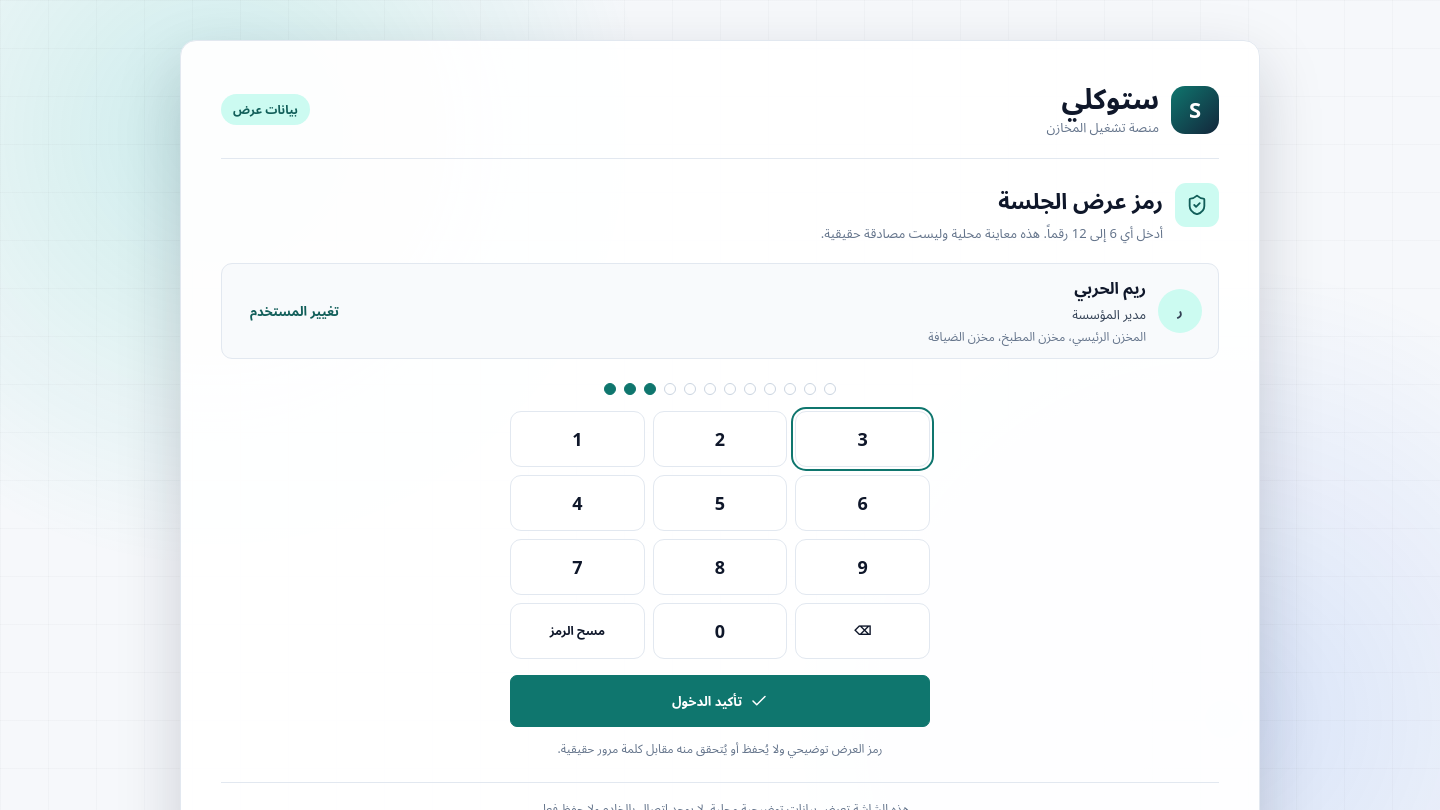
Test: Stockly frontend shell › opens the command palette and navigates locally
This screenshot has width=1440, height=810.
Earlier steps of the test are not shown.
Click the button "4" at coordinates (577, 503), box [510, 475, 645, 531]
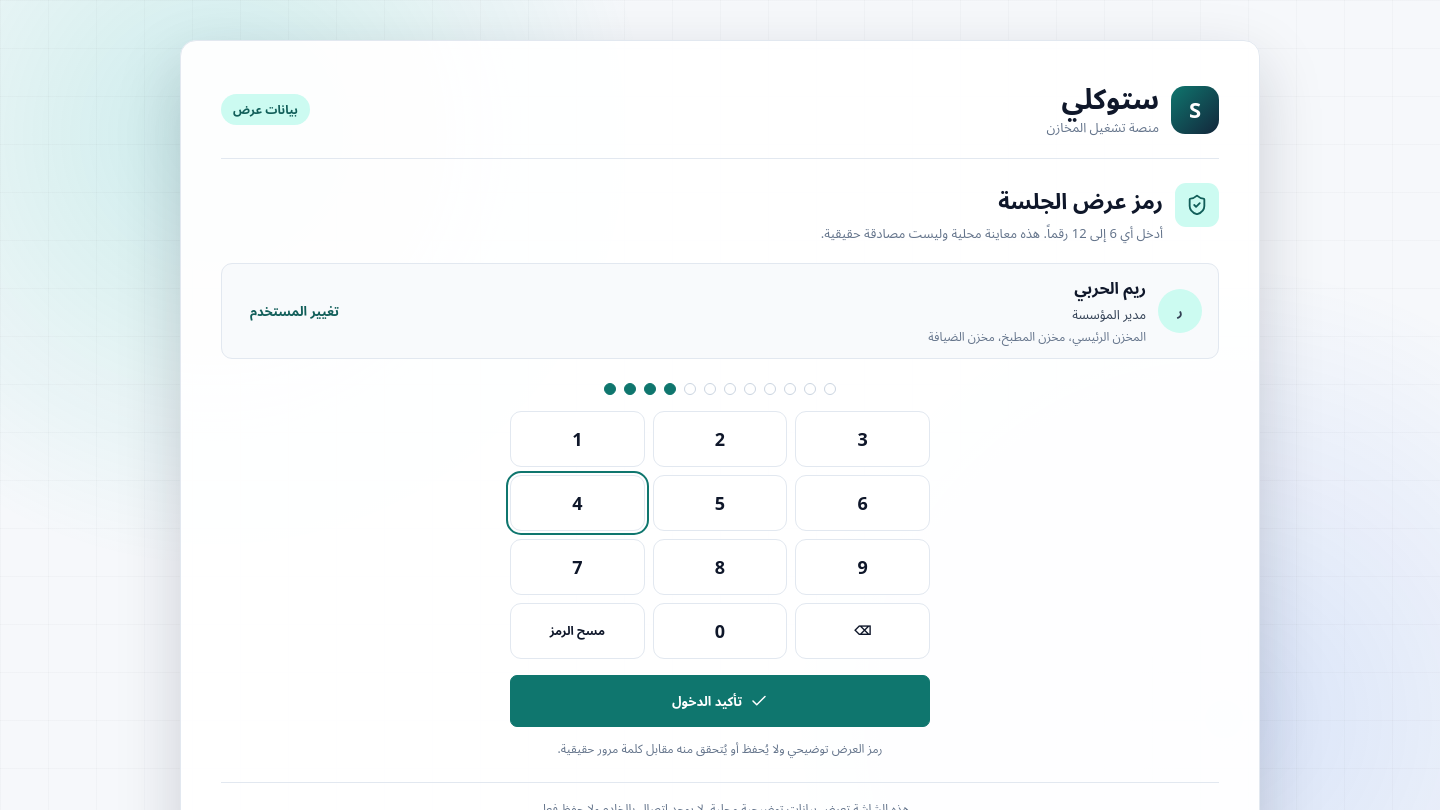
Click the button "5" at coordinates (720, 503), box [653, 475, 787, 531]
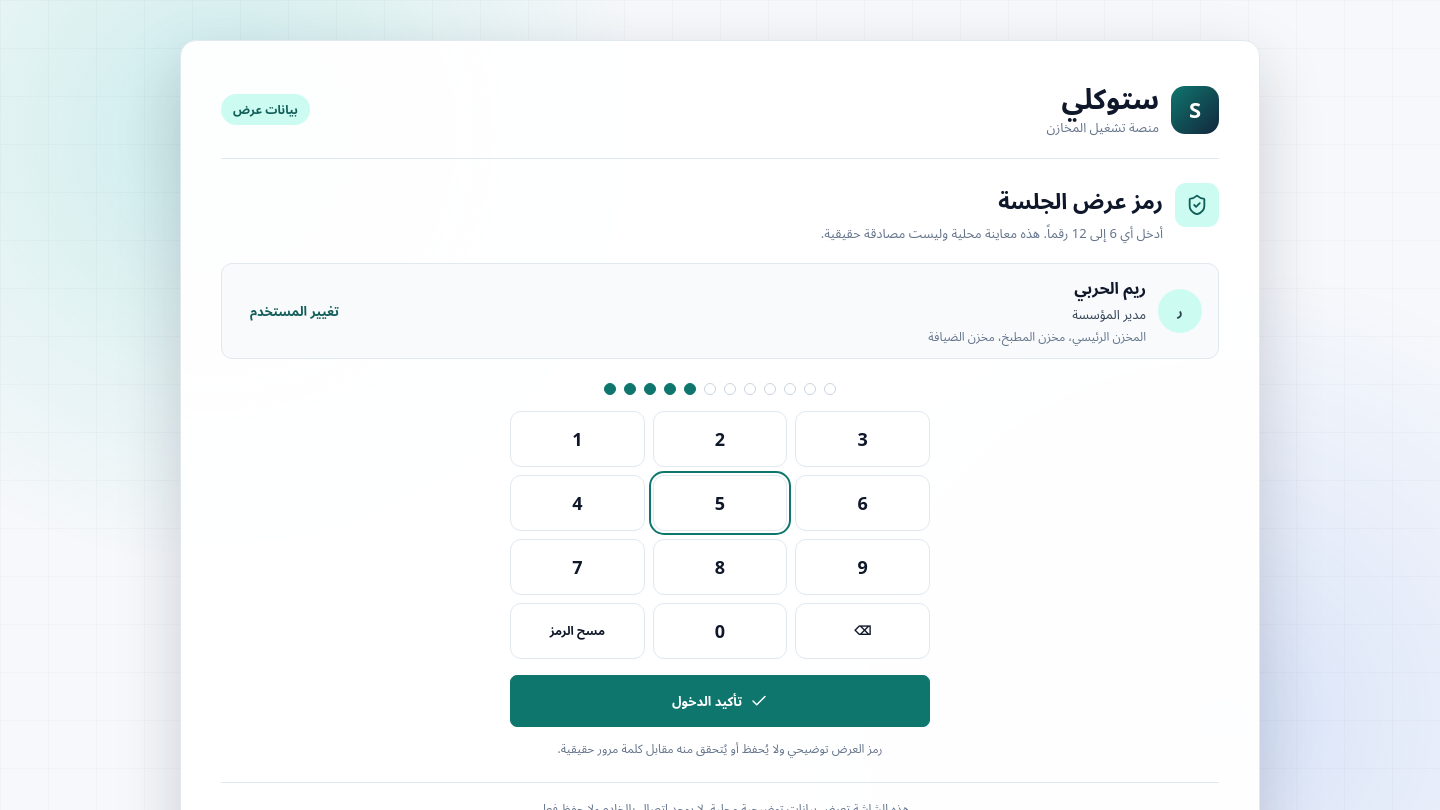
Click the button "6" at coordinates (863, 503), box [795, 475, 930, 531]
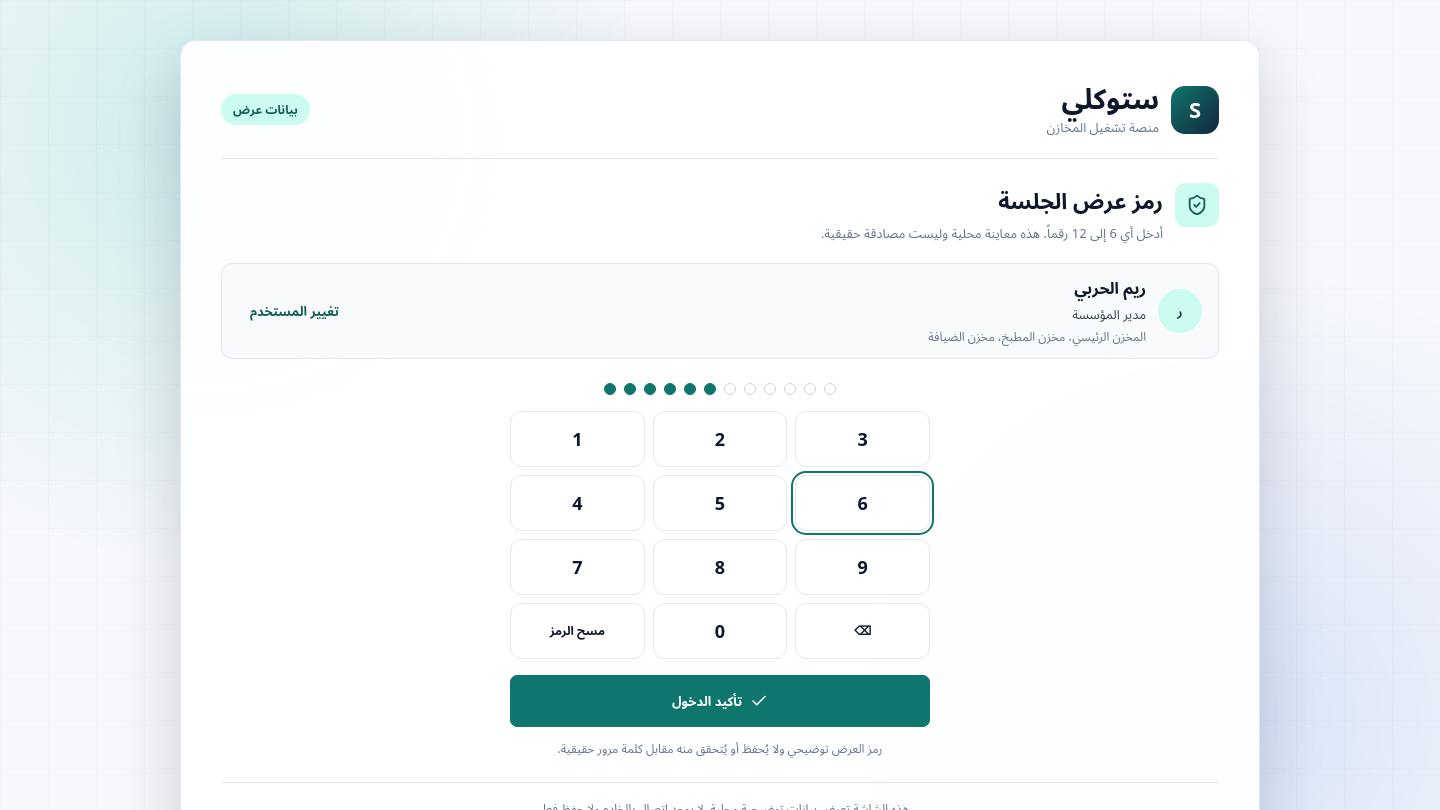
Click the button "تأكيد الدخول" at coordinates (720, 701), box [510, 675, 930, 727]
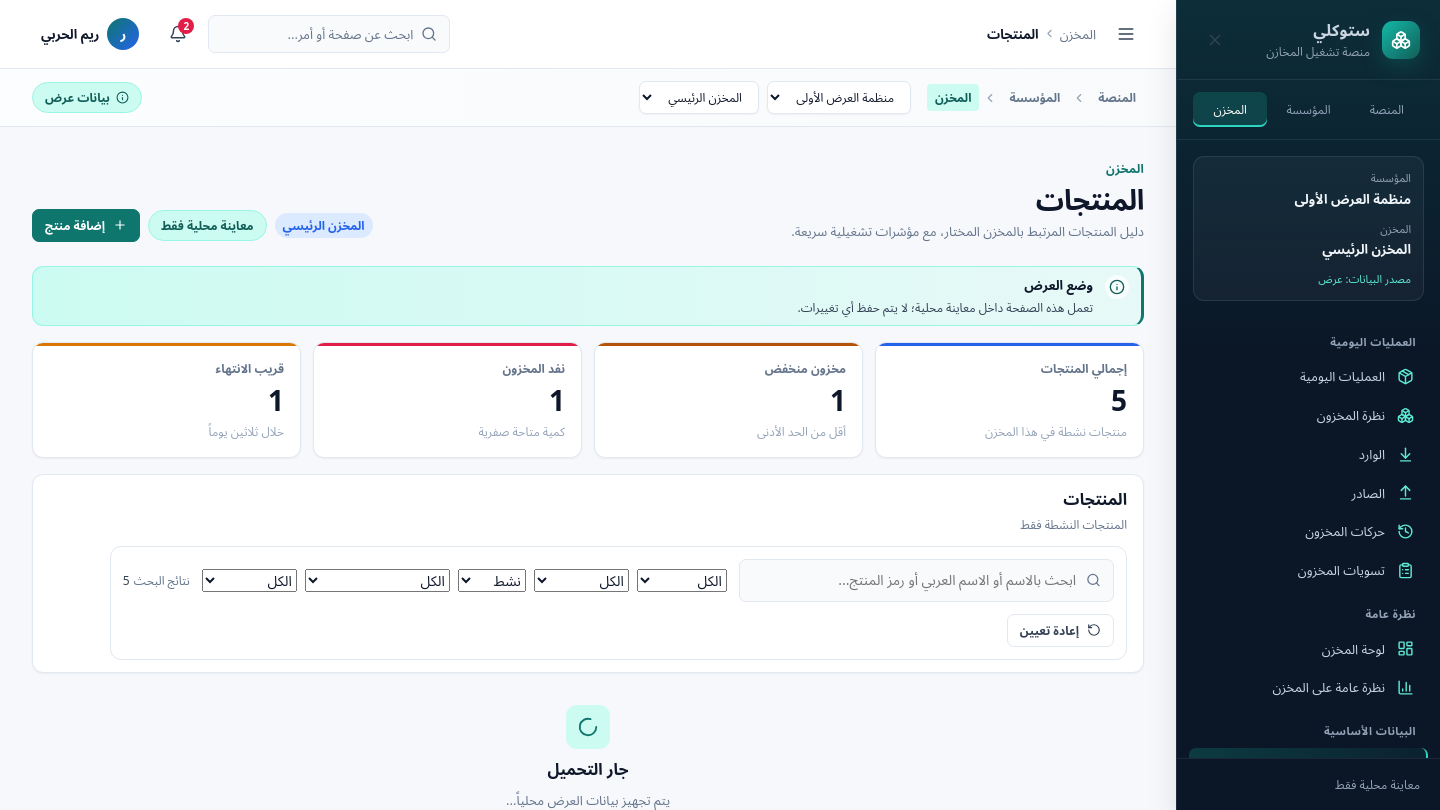
Expected: the button with aria-label "الملف الشخصي" is shown, [32, 13, 148, 55]
Click the button with aria-label "فتح البحث العام" at coordinates (329, 34), box [208, 15, 450, 53]
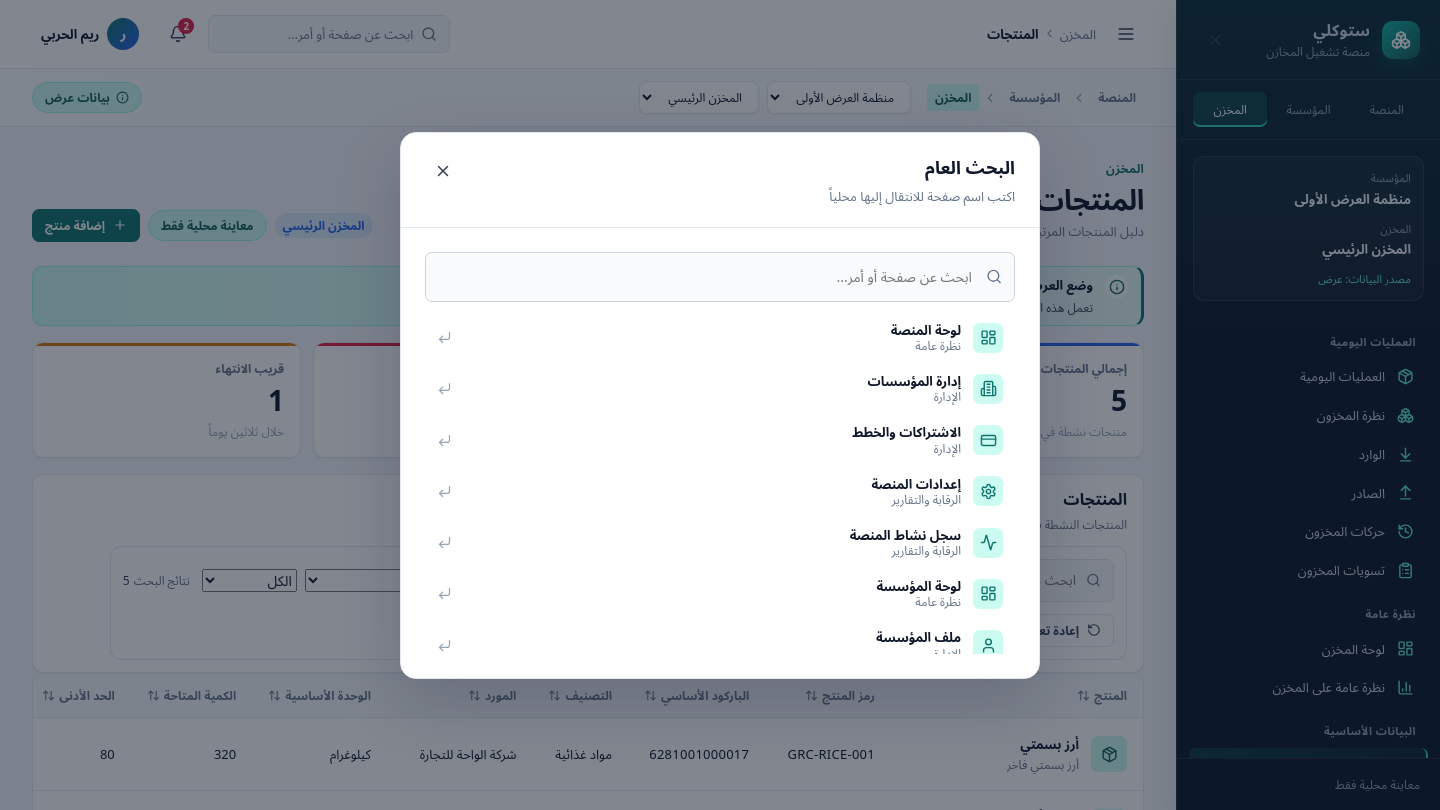
Click the button "لوحة المنصة نظرة عامة" at coordinates (926, 329), box [425, 314, 1015, 361]
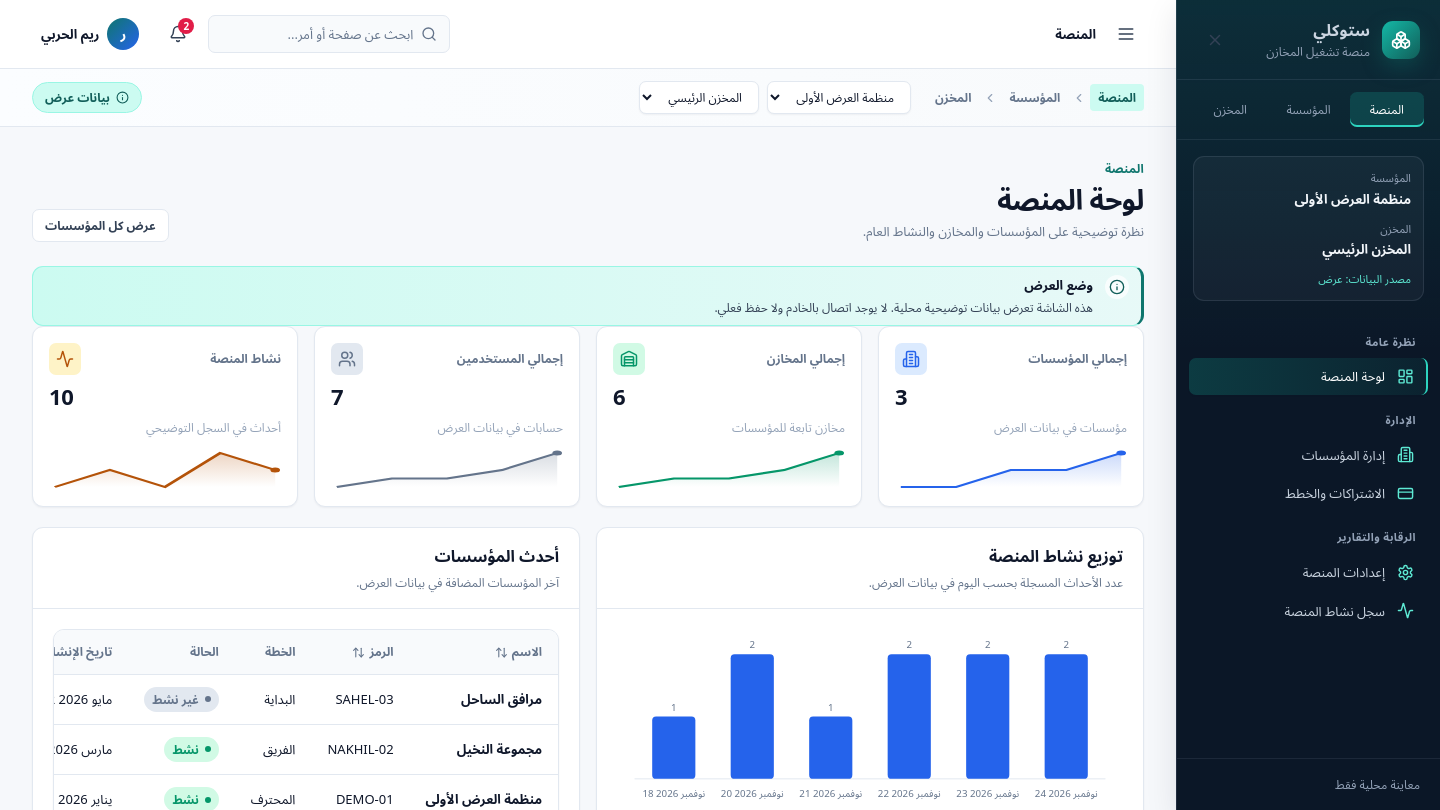
Expected: the heading "لوحة المنصة" is shown, [997, 180, 1144, 218]
